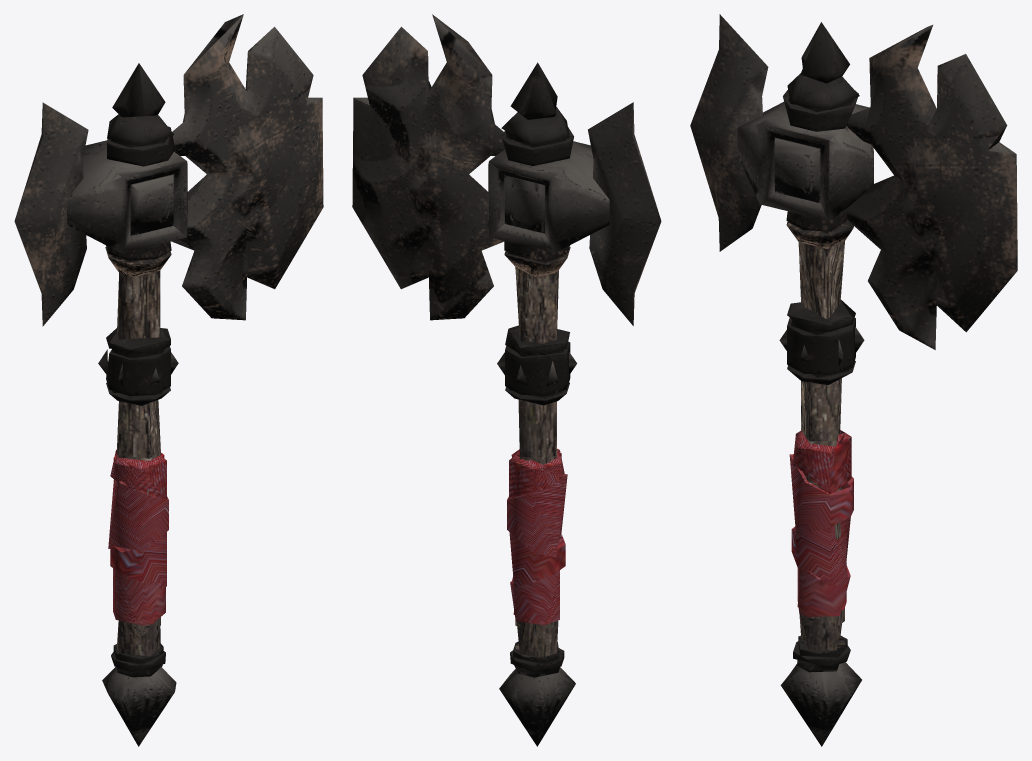
Rendered from axe.glb.
3 renders of one model, left to right at view 1: azimuth 30°, elevation 25°; view 2: azimuth 150°, elevation 25°; view 3: azimuth 330°, elevation 25°, orthographic. The views are drawn at different scales.
Parts seen in each view (by area): view 1: Axe; view 2: Axe; view 3: Axe.
Part boxes in pixels (x1,y1,x2,y2): Axe: (14, 14, 323, 746); Axe: (352, 14, 661, 746); Axe: (690, 14, 1017, 746).
Bounding box in the file's own units: 1.2 × 2.61 × 0.3015.
Materials: 1 (1 with a texture image).
